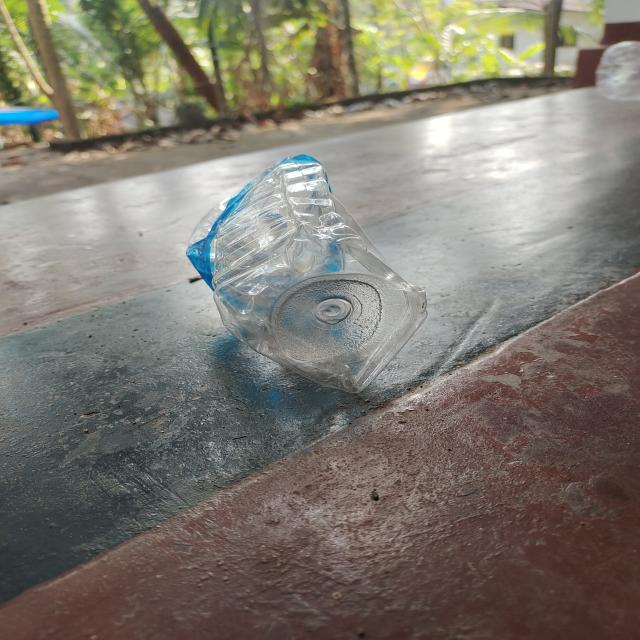plastic: (189, 149, 430, 393)
